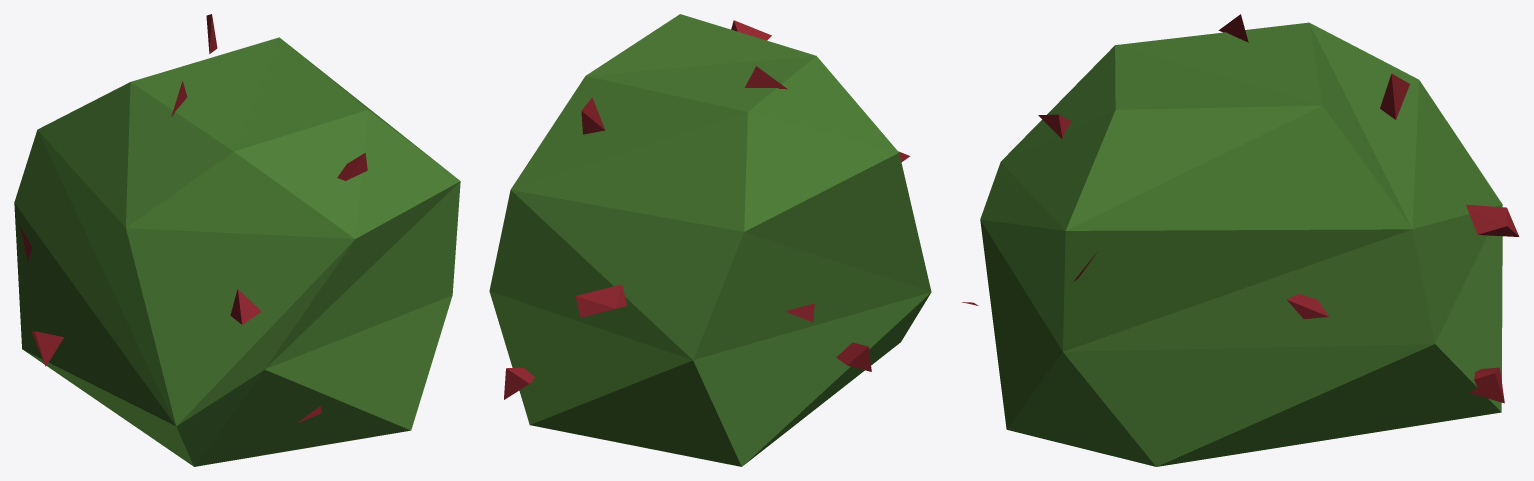
The model's file is deco_summer_3.glb.
3 views of the same model, side by side, from view 1: azimuth 30°, elevation 25°; view 2: azimuth 150°, elevation 25°; view 3: azimuth 270°, elevation 25° (orthographic). The views are drawn at different scales.
Parts seen in each view (by area): view 1: lod0; view 2: lod0; view 3: lod0.
Part boxes in pixels (x1=…): lod0: x1=14, y1=14, x2=460, y2=466; lod0: x1=489, y1=14, x2=931, y2=466; lod0: x1=961, y1=14, x2=1519, y2=466.
Bounding box in the file's own units: 0.9339 × 0.8434 × 1.2.
